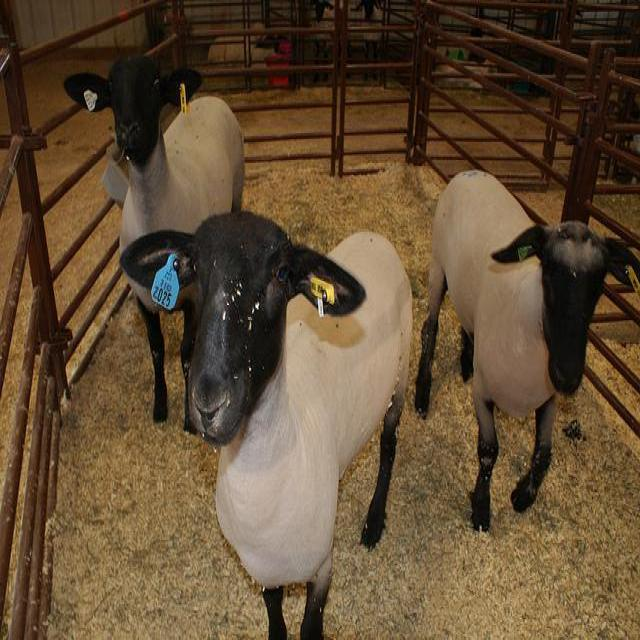Sheep: (118, 206, 413, 638), (415, 163, 639, 531), (61, 52, 246, 435)
